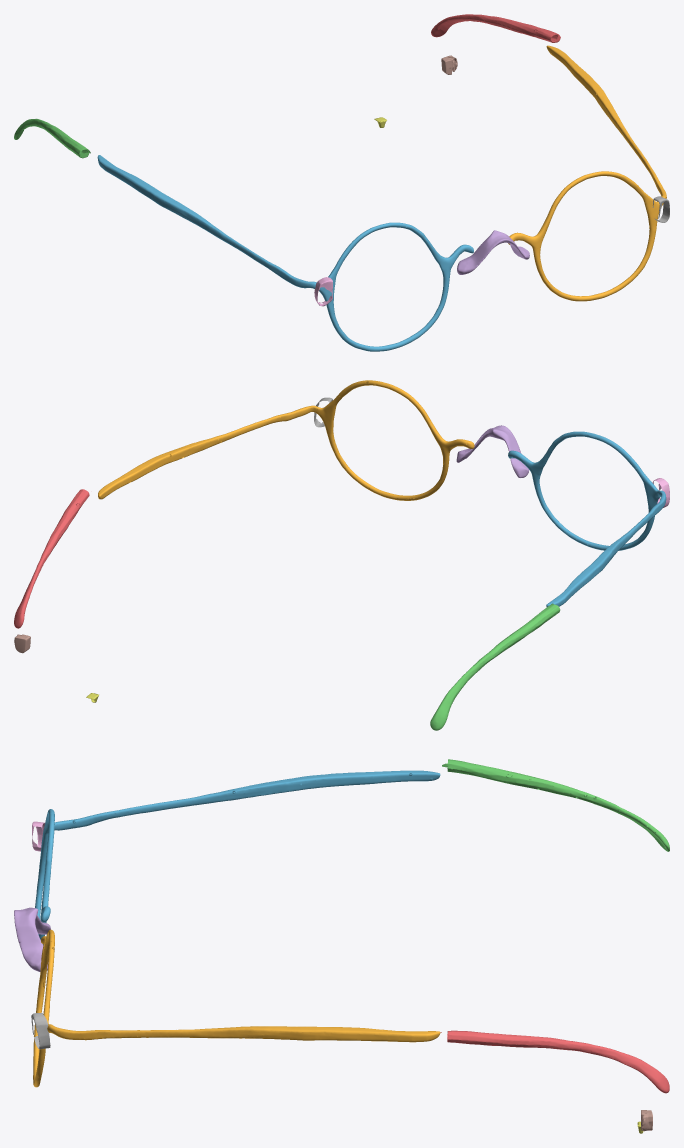
Rendered from glasses.glb.
3 views of the same model, one above another, from view 1: azimuth 30°, elevation 25°; view 2: azimuth 150°, elevation 25°; view 3: azimuth 270°, elevation 25° (orthographic). The views are drawn at different scales.
Parts seen in each view (by area): view 1: Part 01, Part 02, Part 04, Part 05, Part 03; view 2: Part 02, Part 01, Part 03, Part 04, Part 05; view 3: Part 02, Part 01, Part 04, Part 03, Part 05.
Part boxes in pixels (x1,y1,x2,y2): Part 01: (97,155,473,351); Part 02: (508,45,666,301); Part 04: (431,14,560,42); Part 05: (457,230,529,274); Part 03: (14,118,90,158); Part 02: (98,380,474,500); Part 01: (508,431,666,606); Part 03: (430,603,560,730); Part 04: (14,489,89,628); Part 05: (456,425,529,477); Part 02: (33,929,440,1087); Part 01: (35,770,440,944); Part 04: (440,1030,669,1093); Part 03: (442,759,669,851); Part 05: (14,907,50,971).
Size of the model in its own units: 0.9936 by 0.2898 by 0.9936.
